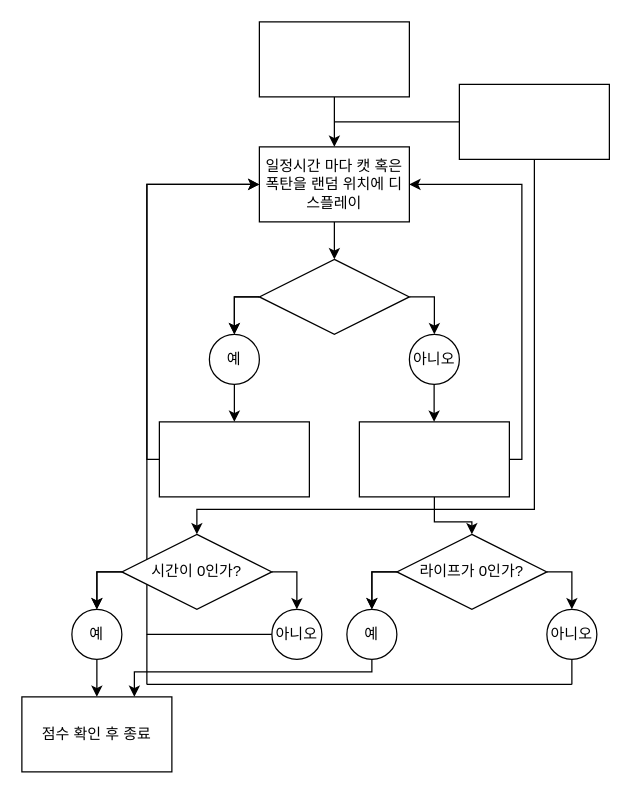
This 631x794 diagram has some shape labels left out. Each missing label, with the box of its shape:
라이프 감소 및 폭탄제거: (358, 421, 509, 497)
시간 측정: (458, 83, 609, 159)
점수 카운트 및 캣 제거: (158, 421, 309, 497)
클릭한 것이 캣인가?: (258, 258, 409, 334)
테이블 생성: (258, 21, 409, 97)
